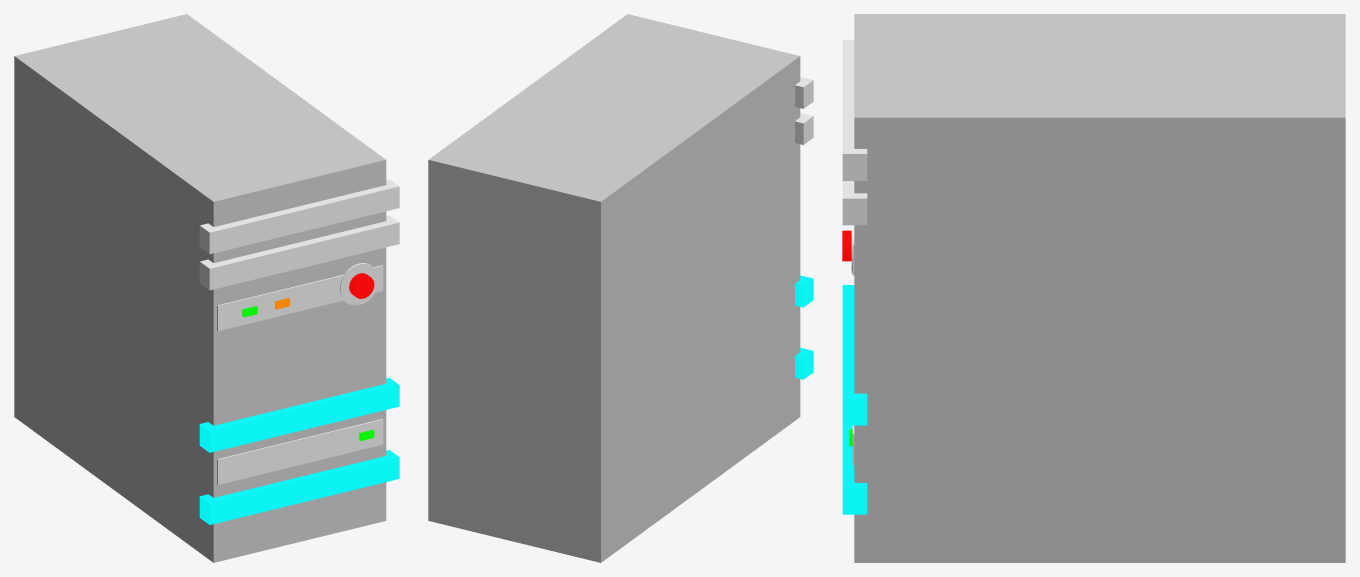
File: Computer.glb
The picture shows the model from 3 angles, left to right: view 1: azimuth 30°, elevation 25°; view 2: azimuth 150°, elevation 25°; view 3: azimuth 270°, elevation 25°; orthographic projection. The views are drawn at different scales.
Parts seen in each view (by area): view 1: Cube.008, Cube.006, Cube.007, Cube.005, Cube.012, Cube.013, Cube.011, Cylinder.001, Cylinder; view 2: Cube.008, Cube.006, Cube.012, Cube.007, Cube.005; view 3: Cube.008, Cube.012, Cube.006, Cube.007, Cube.005.
Part boxes in pixels (x1,y1,x2,y2): Cube.008: [14, 14, 386, 562]; Cube.006: [199, 179, 399, 254]; Cube.007: [199, 450, 399, 524]; Cube.005: [199, 215, 399, 290]; Cube.012: [199, 377, 399, 452]; Cube.013: [217, 419, 383, 484]; Cube.011: [217, 265, 383, 330]; Cylinder.001: [340, 263, 379, 305]; Cylinder: [349, 273, 374, 298]; Cube.008: [428, 14, 800, 562]; Cube.006: [795, 77, 813, 108]; Cube.012: [795, 275, 813, 307]; Cube.007: [795, 347, 813, 379]; Cube.005: [795, 113, 813, 144]; Cube.008: [854, 14, 1345, 562]; Cube.012: [842, 285, 867, 425]; Cube.006: [842, 40, 867, 180]; Cube.007: [842, 425, 867, 514]; Cube.005: [842, 181, 867, 225].
Bounding box in the file's own units: 1.1 × 2 × 2.05.
